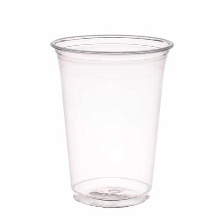glass: (45, 25, 176, 209)
